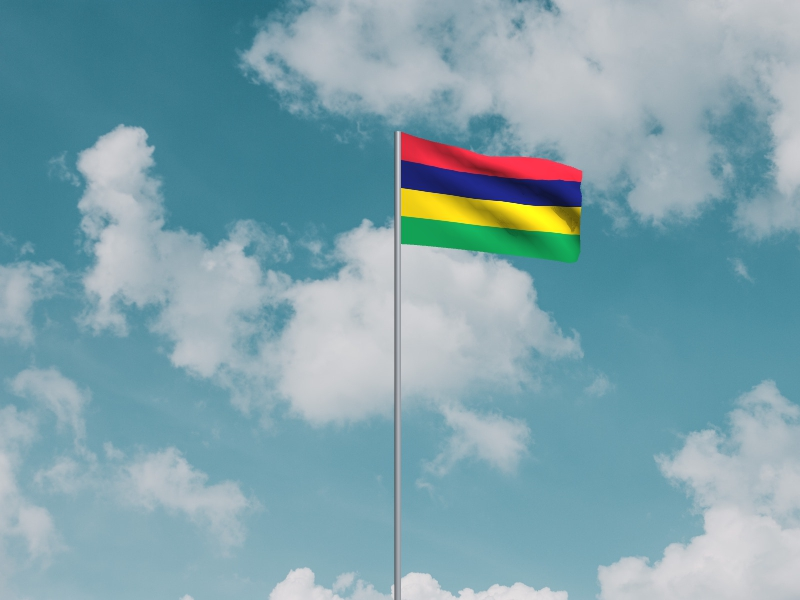mu: (402, 133, 583, 265)
